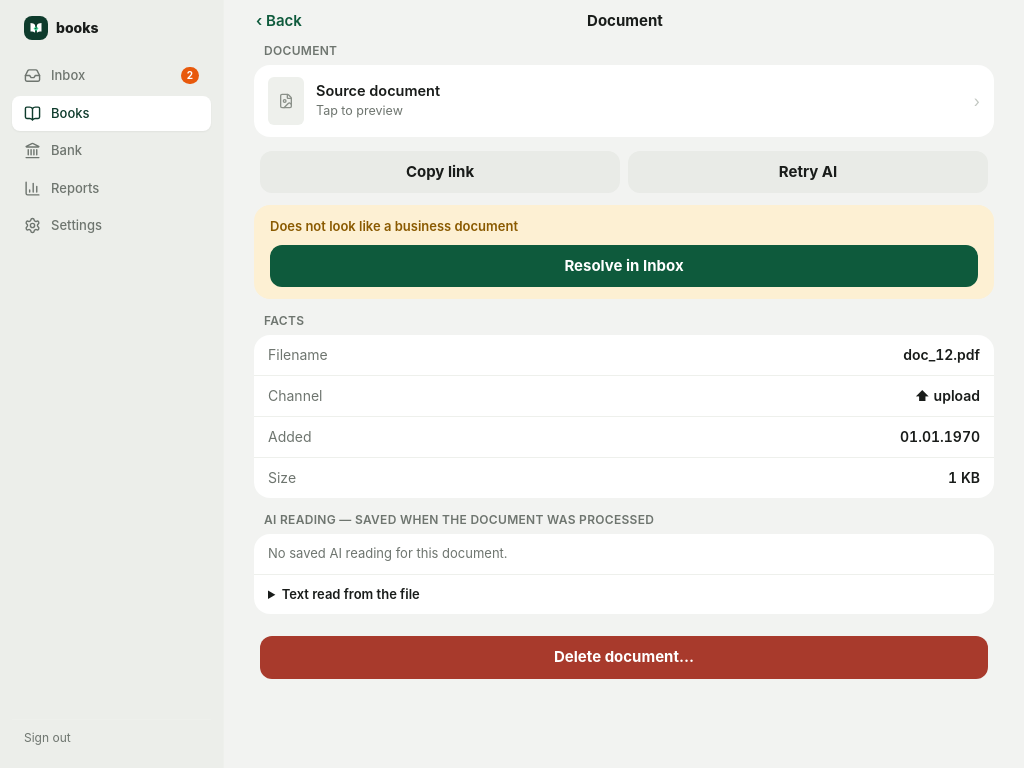
cross-section entry: Books document → Resolve in Inbox (#252) › deleting the file rewrites both the task and its now-invalid origin to the Books documents list
The width and height of the screenshot is (1024, 768).
Step 1. Click the link "Resolve in Inbox" → (624, 266), box 270,244 -> 978,287
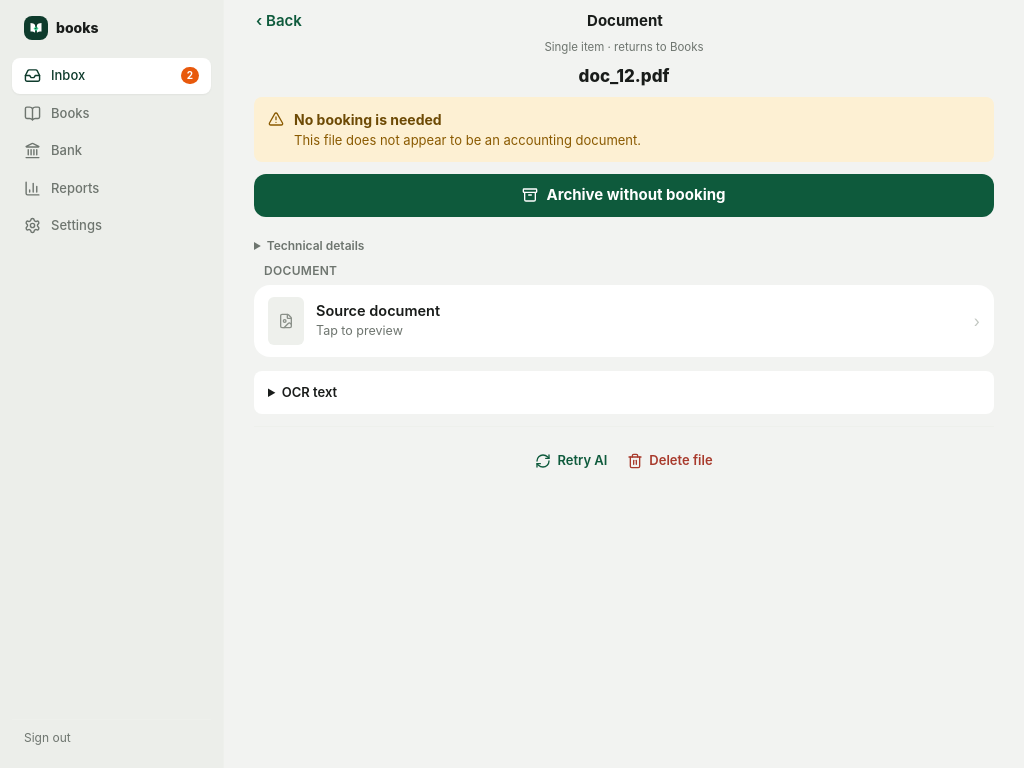
Check: the text "doc_12.pdf" is shown, box 579,66 -> 670,86
Step 2. Click the button "Delete file" → (670, 461), box 627,439 -> 713,483
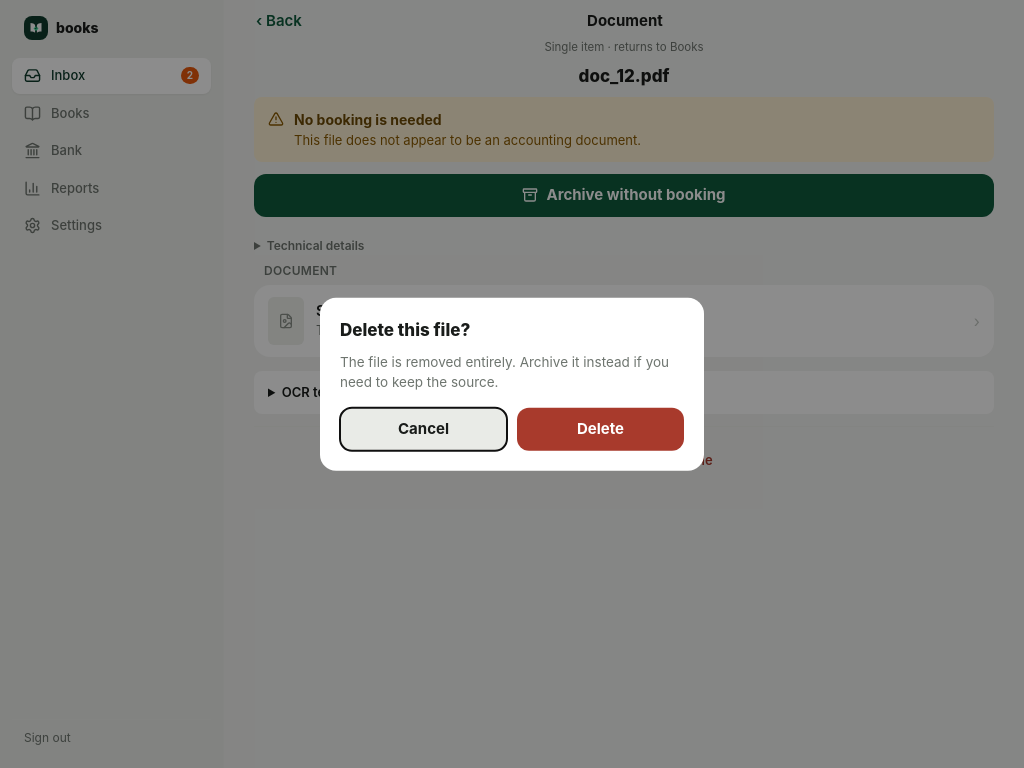
Step 3. Click the button "Delete" → (600, 429), box 517,408 -> 684,450
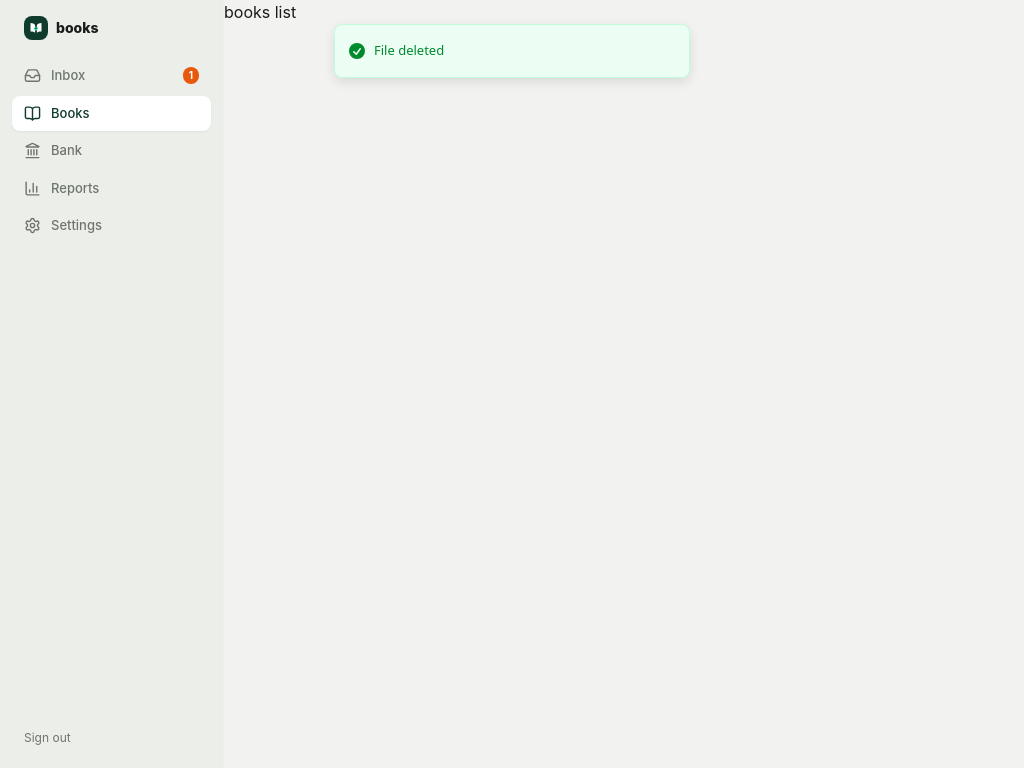
Check: the text "books list" is shown, box 224,2 -> 296,22
